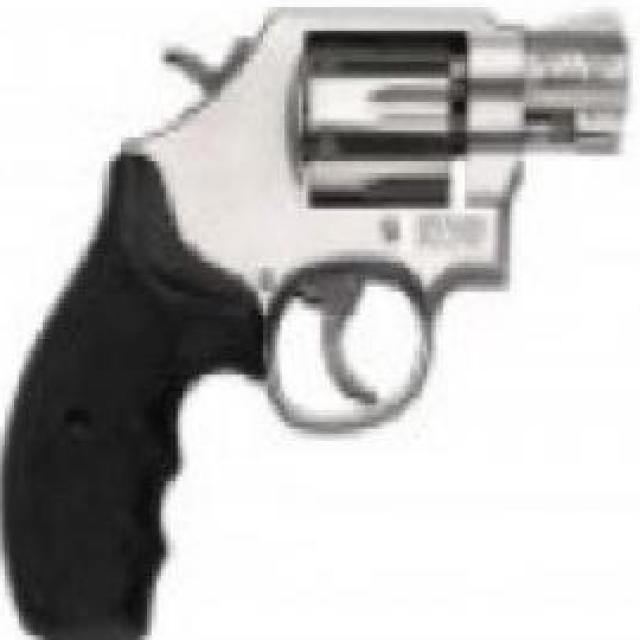pistol: (0, 7, 621, 640)
